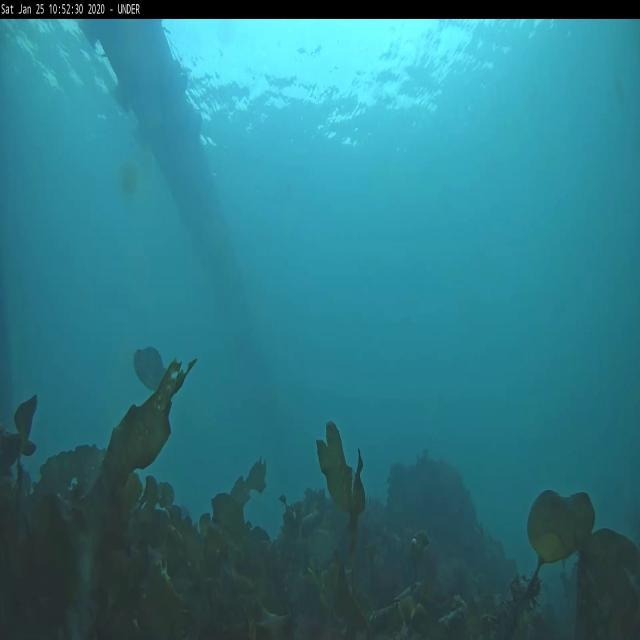fish: (133, 343, 172, 393)
